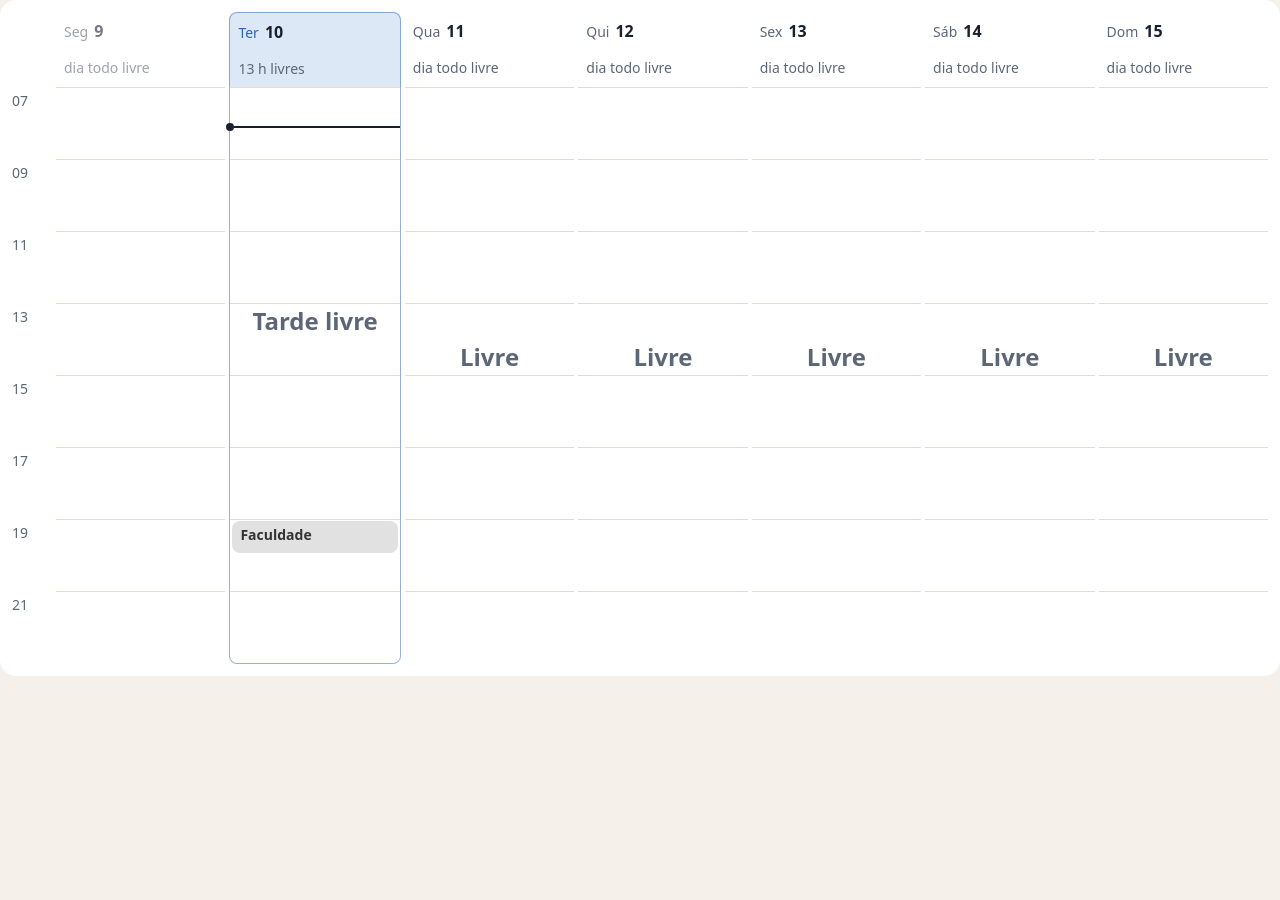
Test: WeekGrid: dia aberto › na visão geral junta Faculdade e Limpeza; aberto, mostra as duas e leva o foco ao título do dia
Click the button named "Abrir terça, 10 de novembro, hoje".
click(315, 50)  # box [229,12,401,87]
(page scrolled)
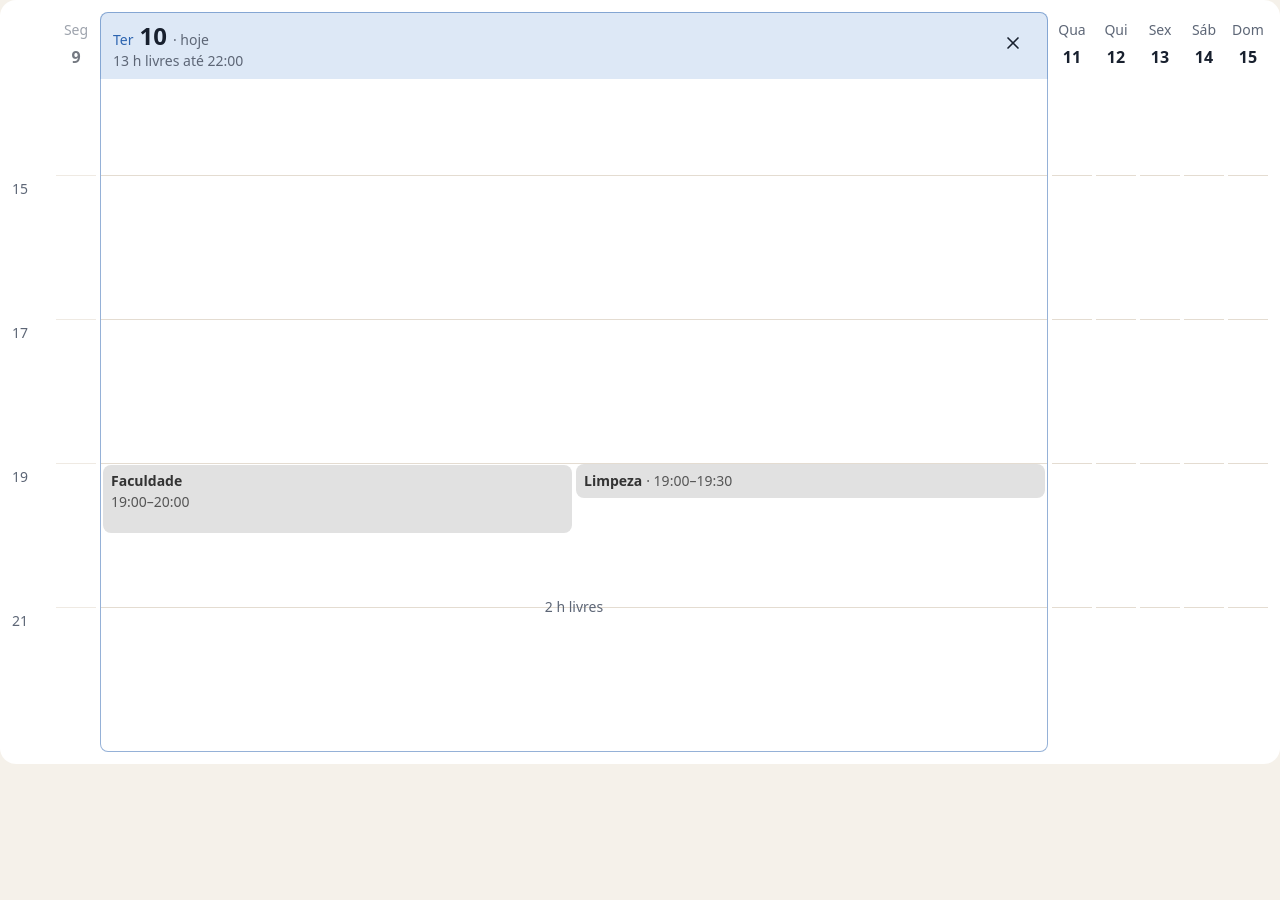
Now the element that starts with "11 h livres" is shown
Now the text "+ Limpeza" is gone
Now the button named "Limpeza, Estudos, 19:00–19:30" is shown, box [576,464,1045,498]
